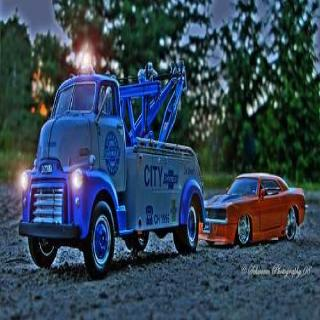Towing_truck: (18, 57, 207, 278)
